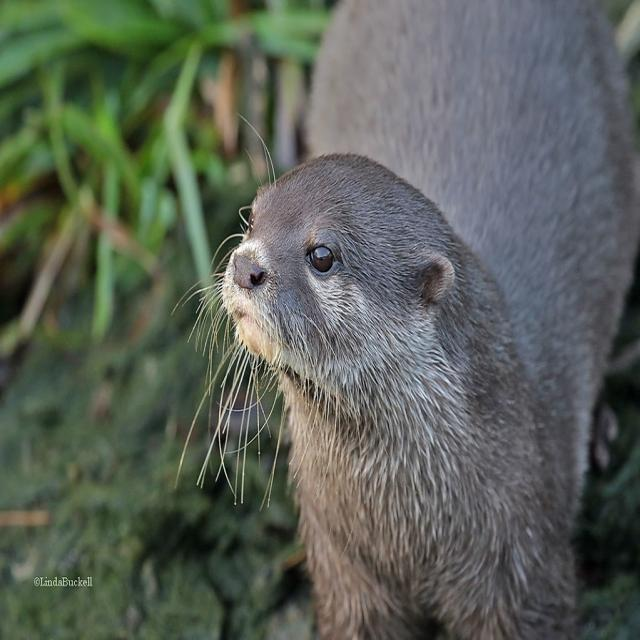otter: (225, 154, 574, 640)
